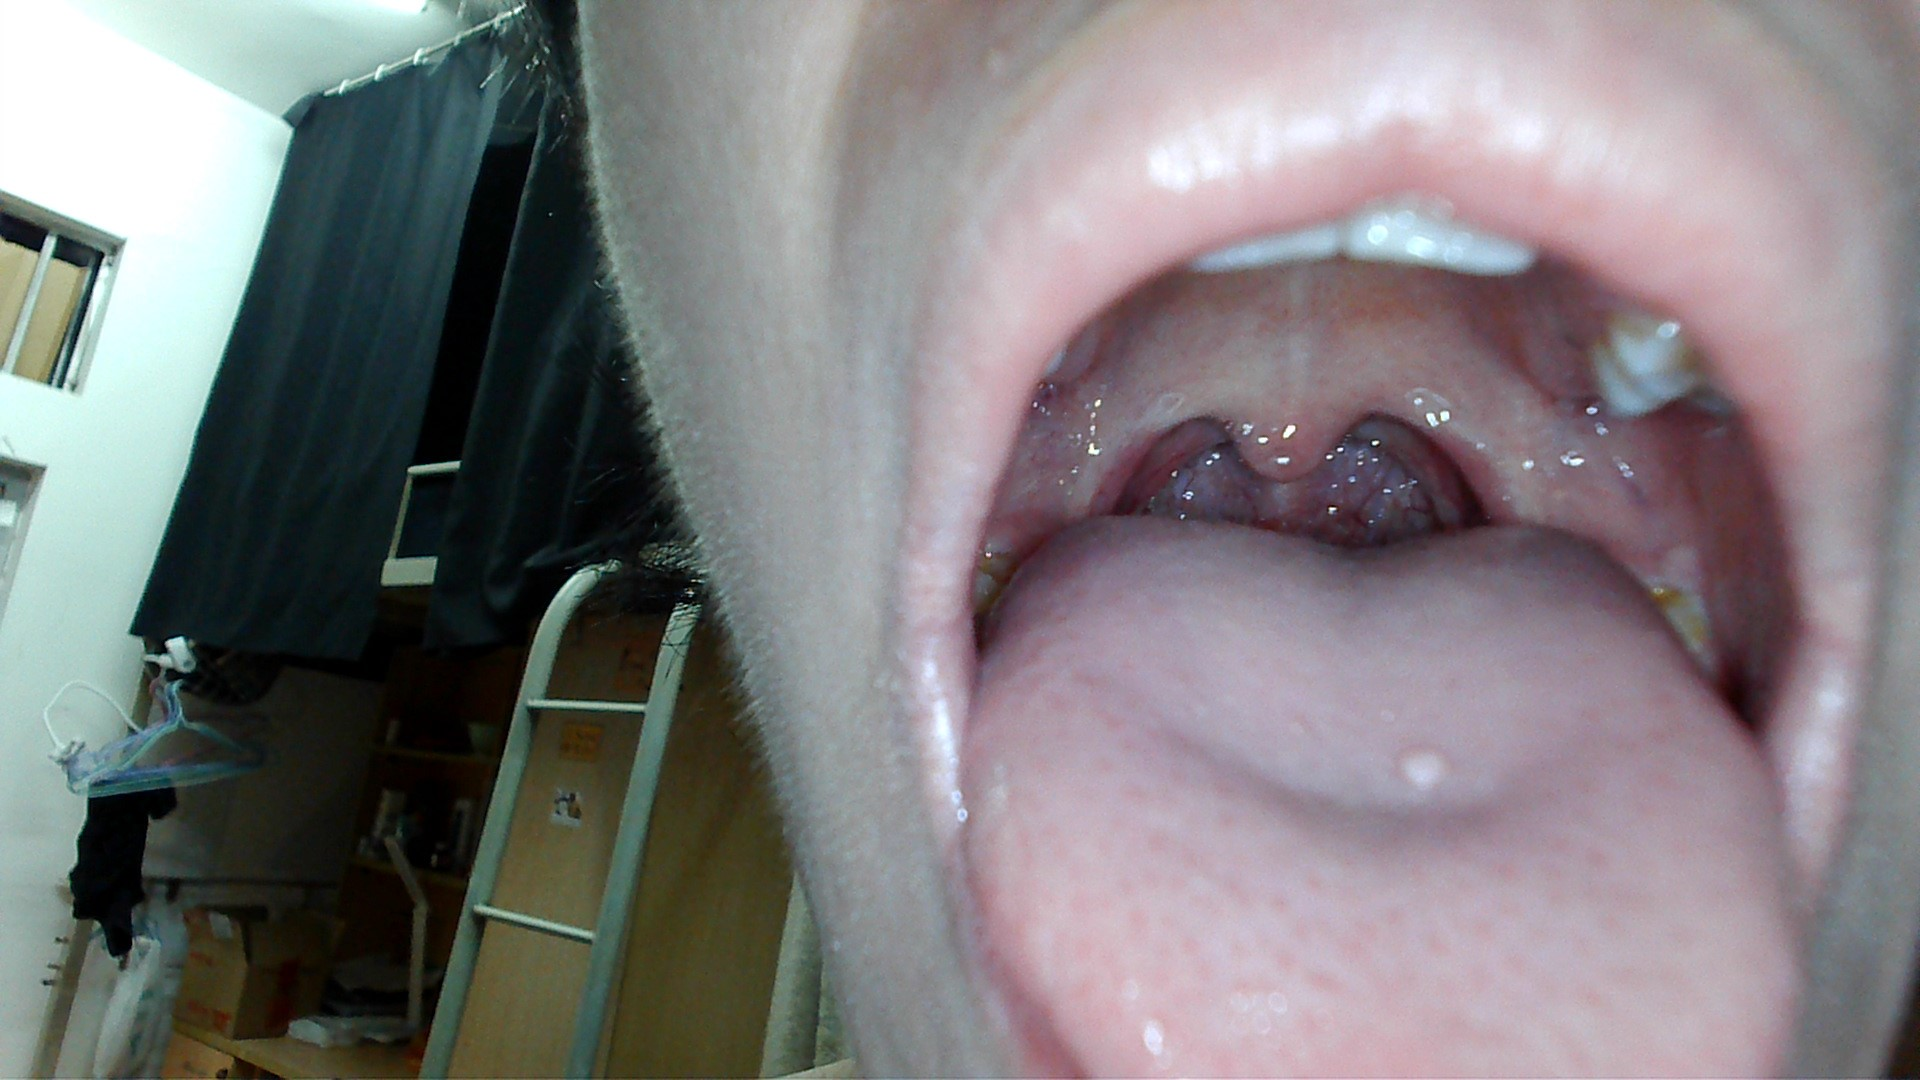throat: (1406, 352, 1530, 524), (1077, 384, 1182, 508)
